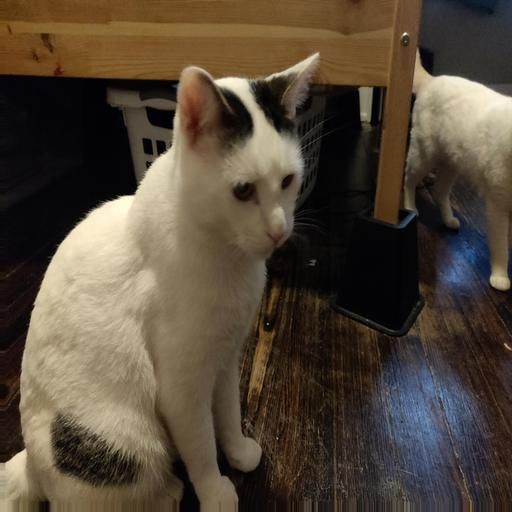cat: (31, 63, 329, 361)
